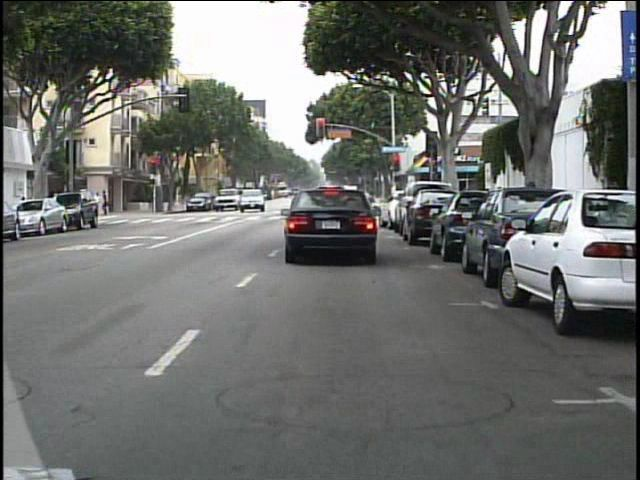person: (103, 188, 117, 218), (91, 188, 105, 217)
